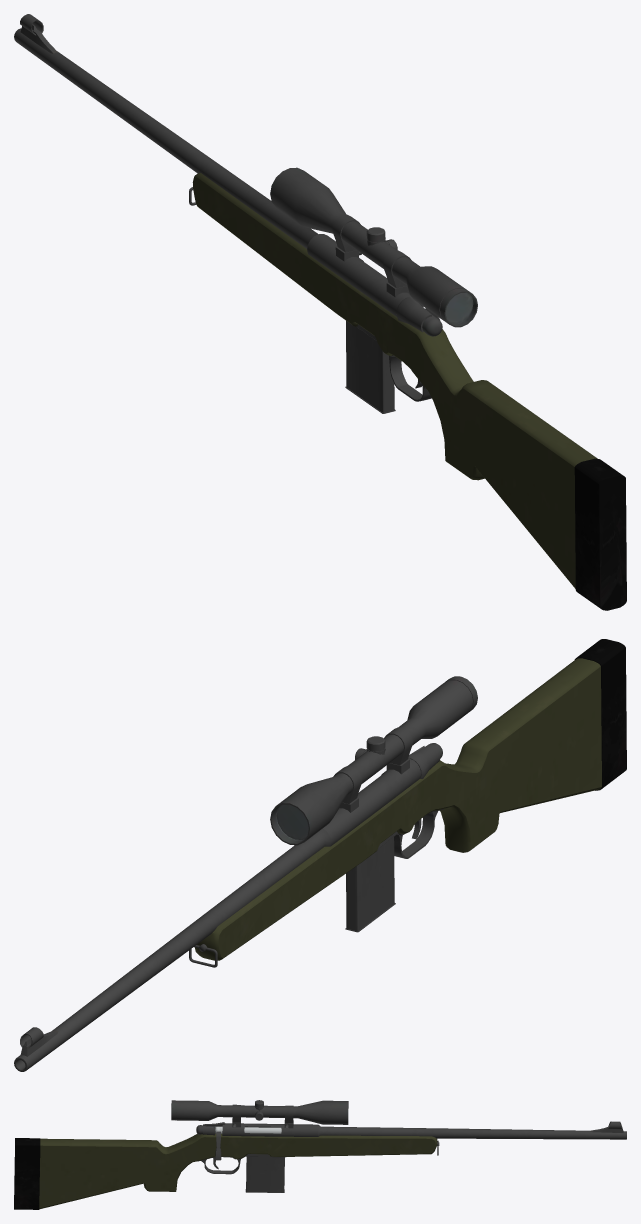
Rendered from sniper.glb.
The picture shows the model from 3 angles, top to bottom: view 1: azimuth 30°, elevation 25°; view 2: azimuth 150°, elevation 25°; view 3: azimuth 270°, elevation 25°; orthographic projection. The views are drawn at different scales.
Visible parts, largest first — view 1: Stock, Barrel, Scope, Magazine; view 2: Stock, Barrel, Scope, Magazine, IronSight; view 3: Stock, Barrel, Scope, Magazine, Bolt, IronSight.
Part boxes in pixels (x1,y1,x2,y2): Stock: [192, 173, 626, 610]; Barrel: [14, 28, 440, 401]; Scope: [270, 167, 477, 327]; Magazine: [345, 321, 395, 413]; Stock: [194, 639, 626, 960]; Barrel: [14, 744, 443, 1071]; Scope: [270, 676, 477, 845]; Magazine: [345, 837, 395, 932]; IronSight: [20, 1027, 58, 1056]; Stock: [14, 1133, 437, 1209]; Barrel: [198, 1122, 626, 1174]; Scope: [171, 1100, 348, 1128]; Magazine: [245, 1156, 284, 1192]; Bolt: [196, 1125, 281, 1160]; IronSight: [590, 1121, 623, 1132].
Size of the model in its own units: 0.0568 by 0.22 by 1.15.
1 material, 1 textured.
